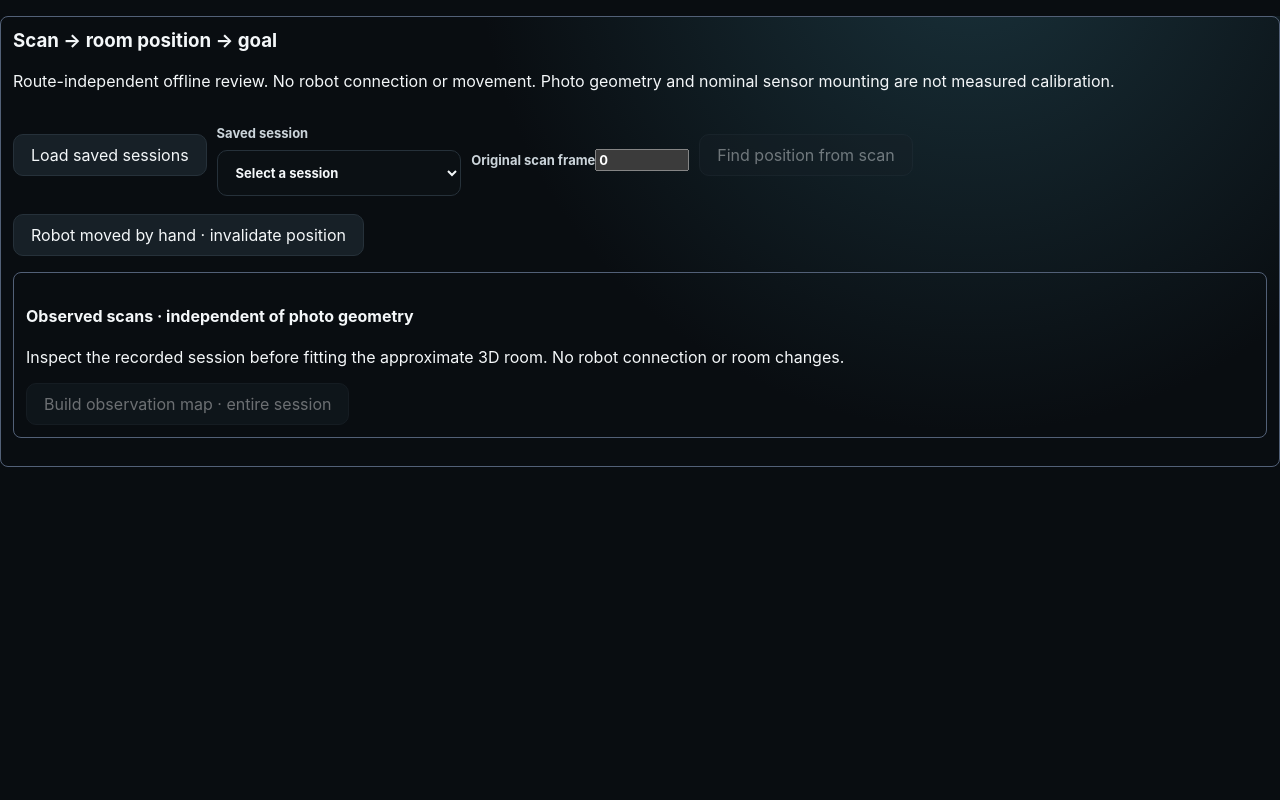
Test: saved scan localization › rejects ambiguous position and clears a prior result when frame changes
Click the button "Load saved sessions" at (110, 155), box top-left (13, 134), bottom-right (207, 176)
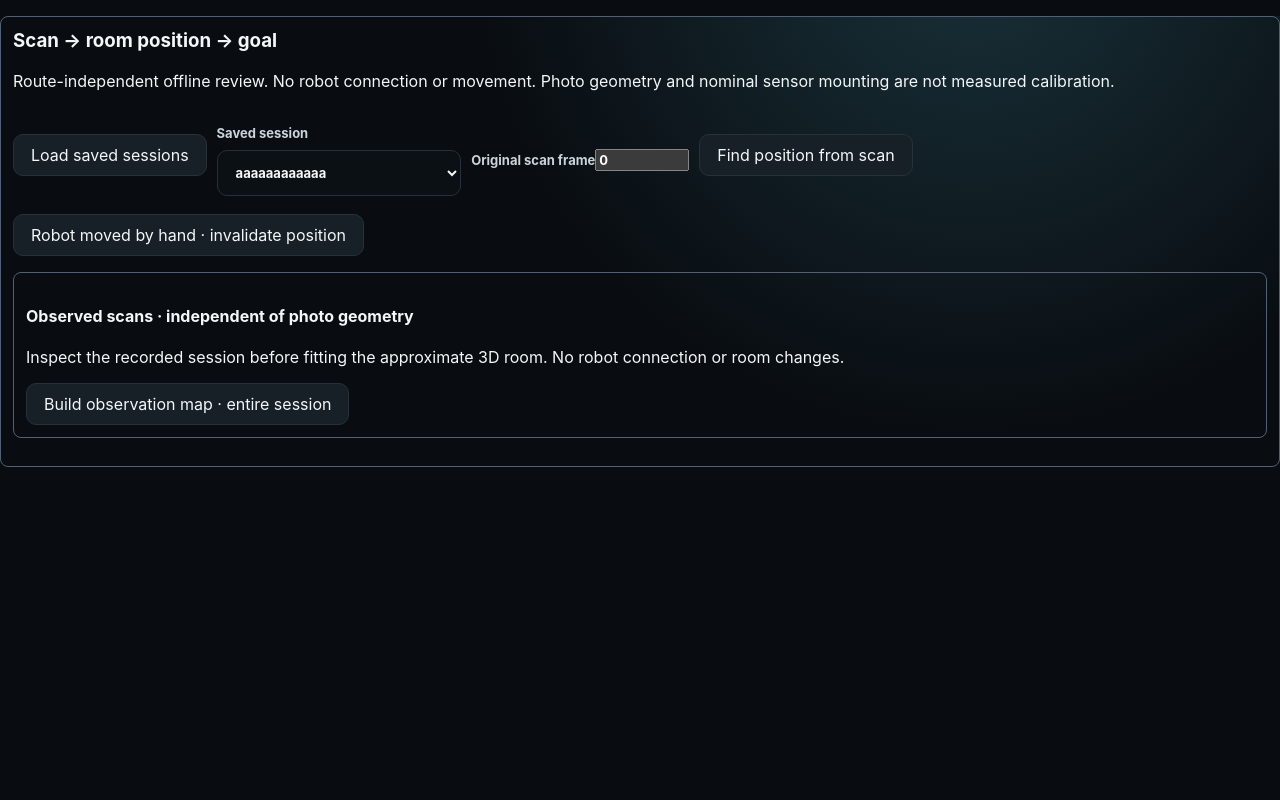
Click the button "Find position from scan" at (806, 155), box top-left (699, 134), bottom-right (913, 176)
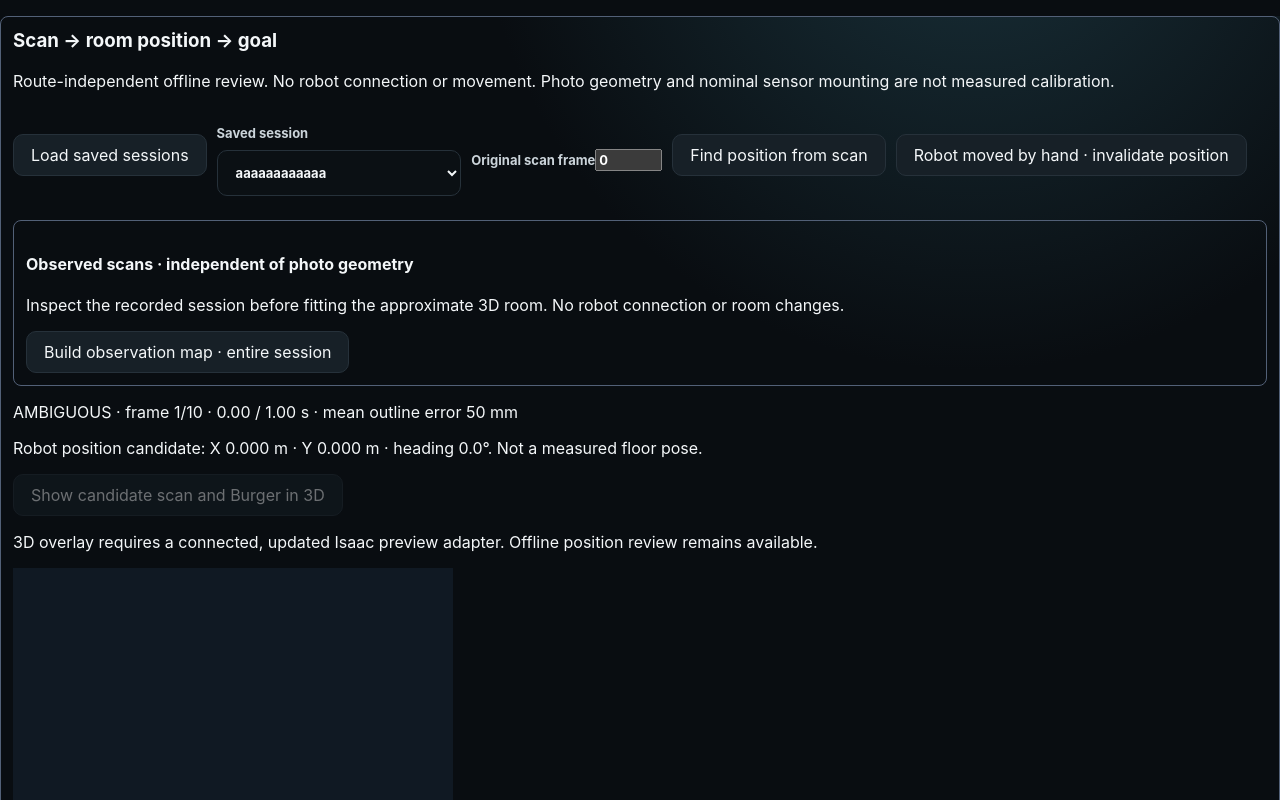
Expected: the text "AMBIGUOUS · frame 1/10 · 0.00 / 1.00 s · mean outline error 50 mm" is shown, top-left (13, 402), bottom-right (518, 422)
Replace the text in the number field named "Localization scan frame" with "3" at (629, 160), box top-left (595, 149), bottom-right (662, 171)
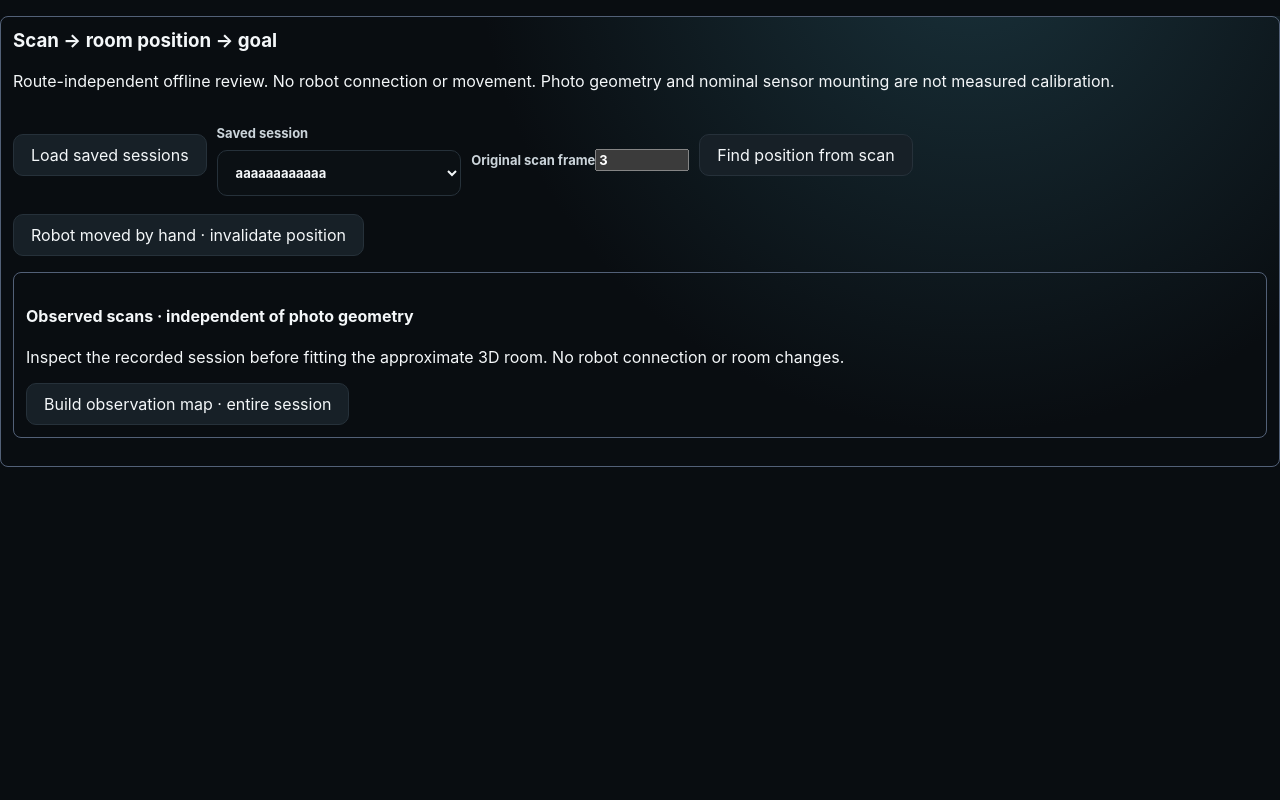
Expected: the text "Robot position candidate" is gone
